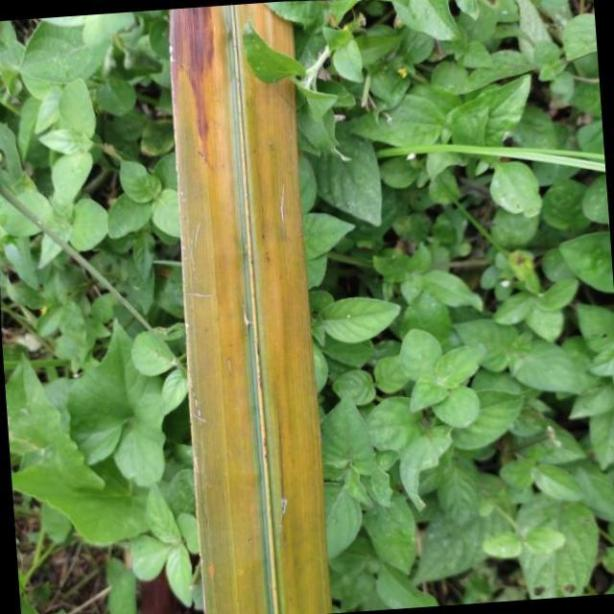Megnesium: (170, 0, 332, 614)
